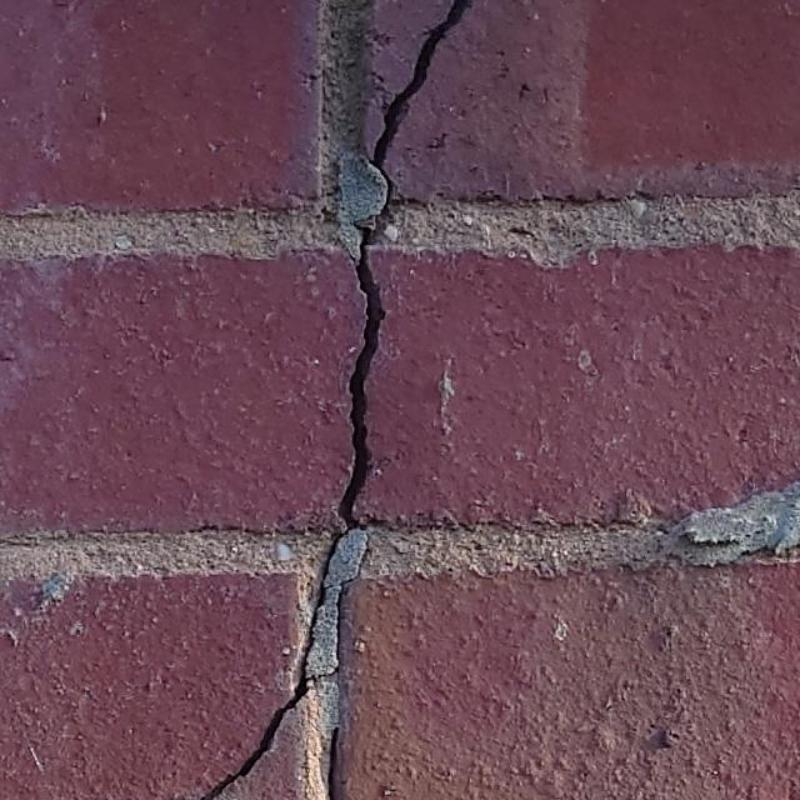pothole: (200, 526, 353, 799), (368, 0, 471, 208), (339, 223, 384, 526), (310, 532, 370, 680), (328, 725, 340, 799)
